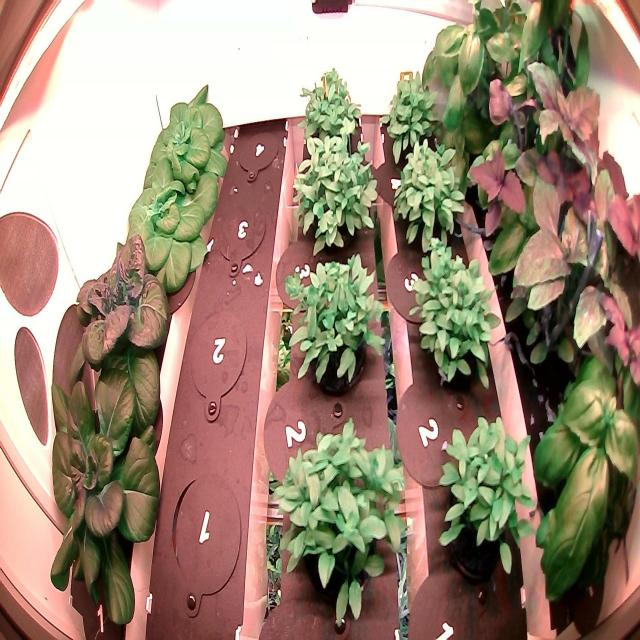empty_pod: (166, 465, 251, 612), (185, 299, 250, 427), (207, 186, 268, 279), (228, 106, 289, 182)
young: (33, 351, 170, 640), (58, 210, 181, 460), (111, 152, 218, 292), (141, 69, 234, 198)
